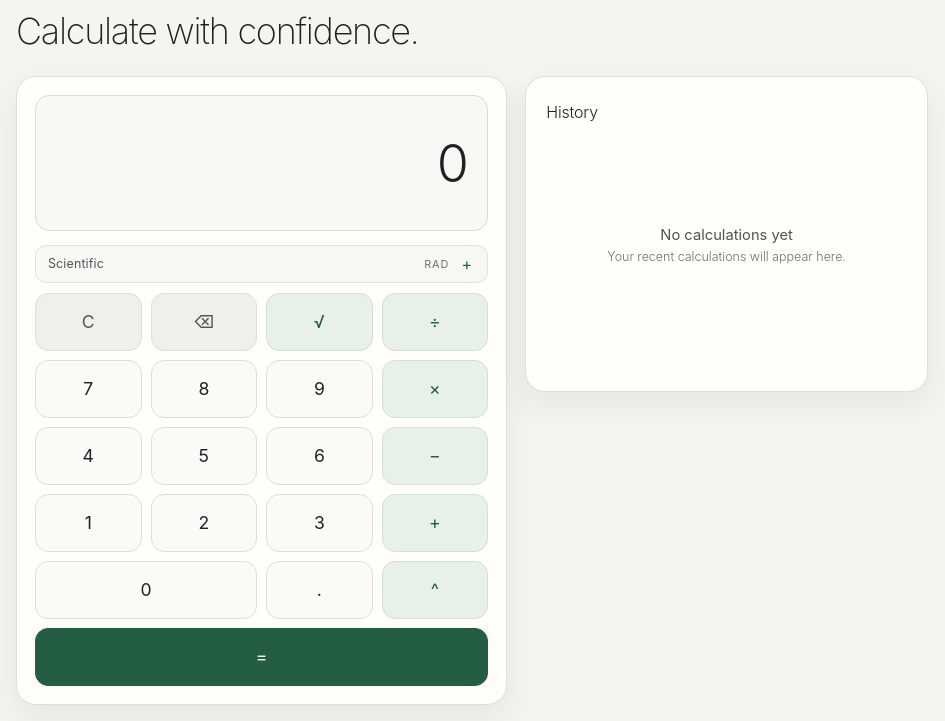
Test: calculator › calculates exponentiation by button and records the API result
Click the button "2": (204, 523) x1=150 y1=494 x2=257 y2=552
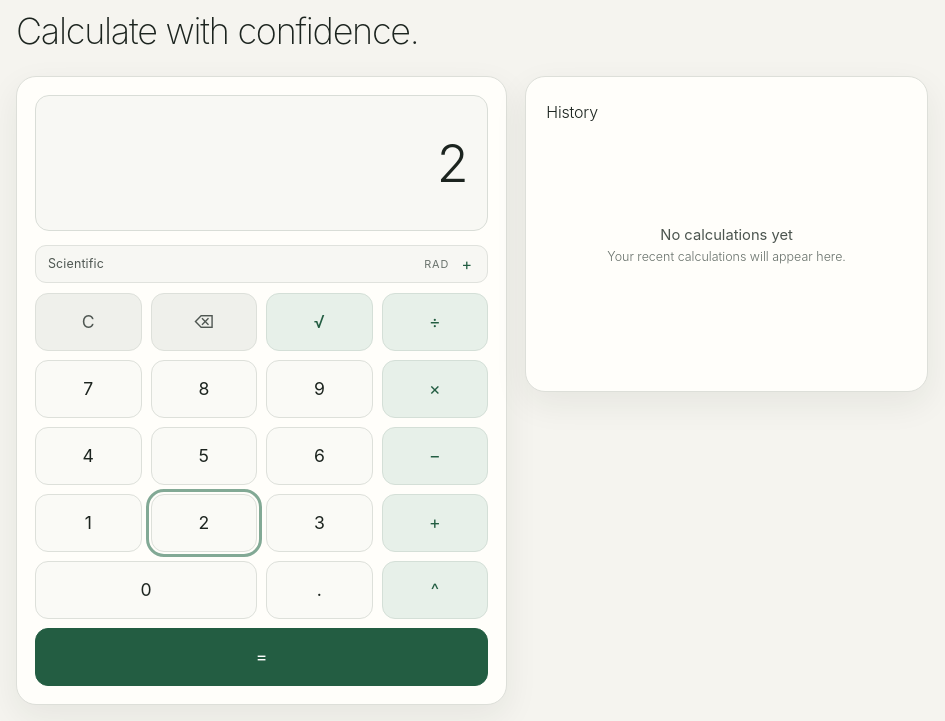
Click the button named "Raise to power": (435, 590) x1=382 y1=561 x2=488 y2=619
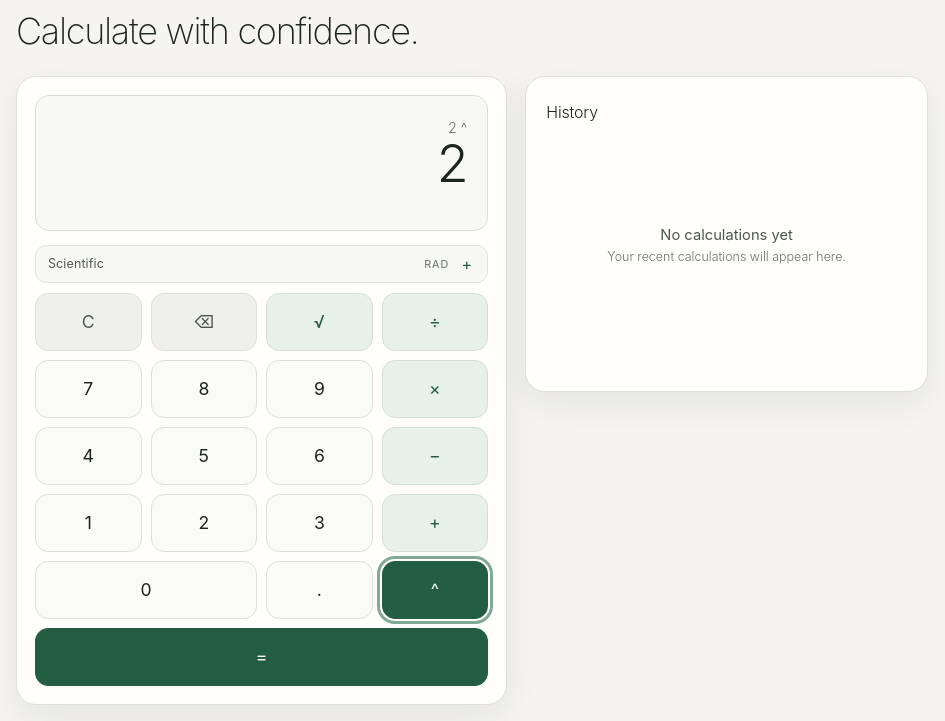
Click the button "1": (88, 523) x1=35 y1=494 x2=142 y2=552
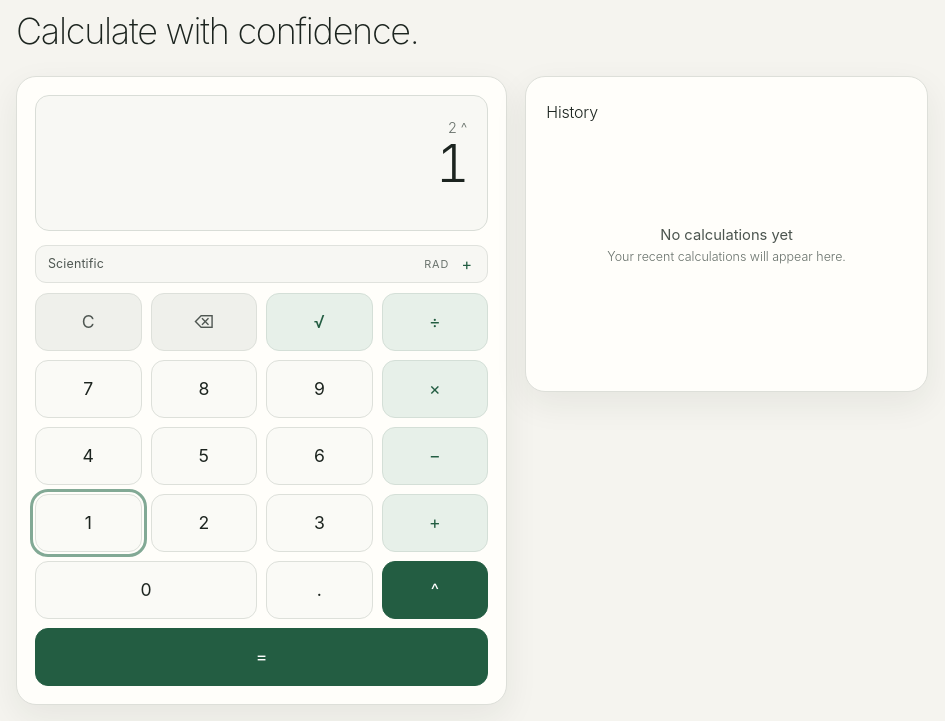
Click the button "0": (146, 590) x1=35 y1=561 x2=257 y2=619
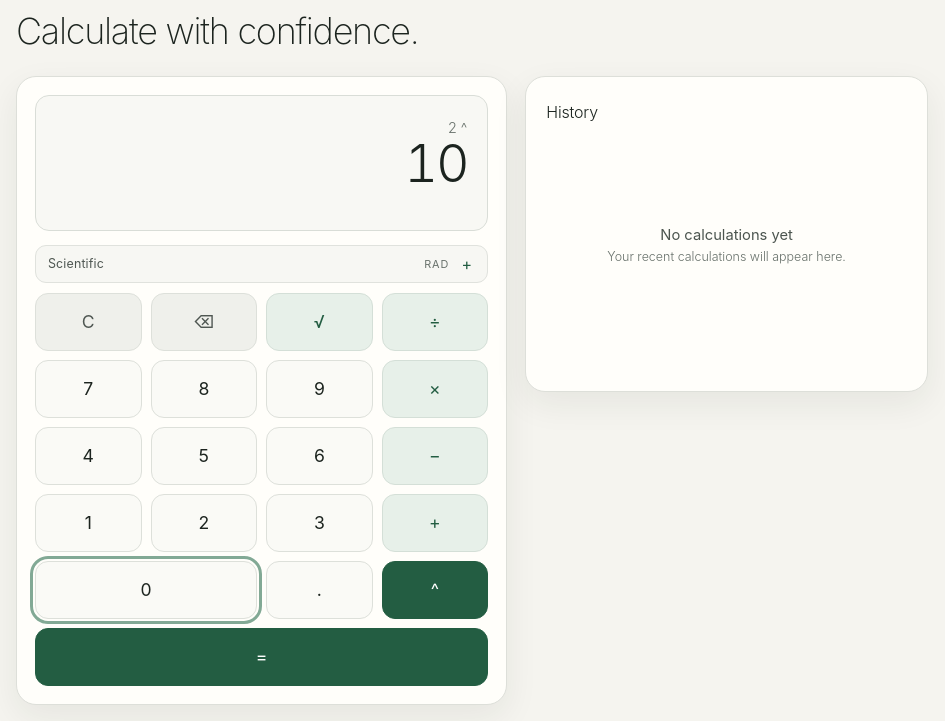
Click the button named "Calculate result": (262, 657) x1=35 y1=628 x2=488 y2=686
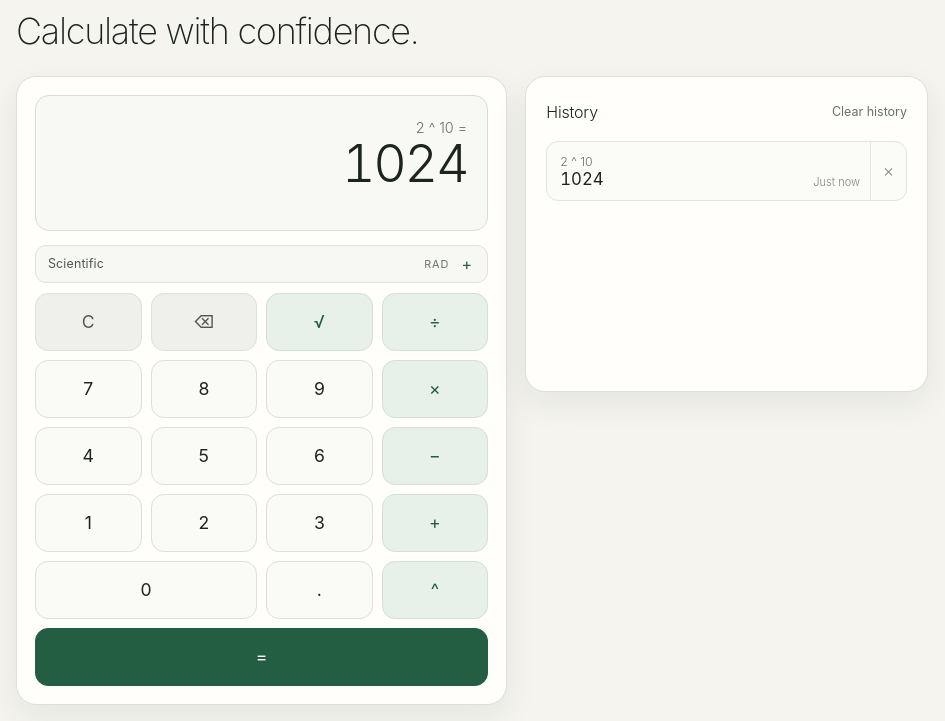
Expected: the element named "Calculator display" reads "1024", x1=342 y1=132 x2=467 y2=195
Expected: the text "2 ^ 10" is shown, x1=560 y1=154 x2=593 y2=169
Expected: the 2nd text "1024" is shown, x1=560 y1=169 x2=604 y2=189
